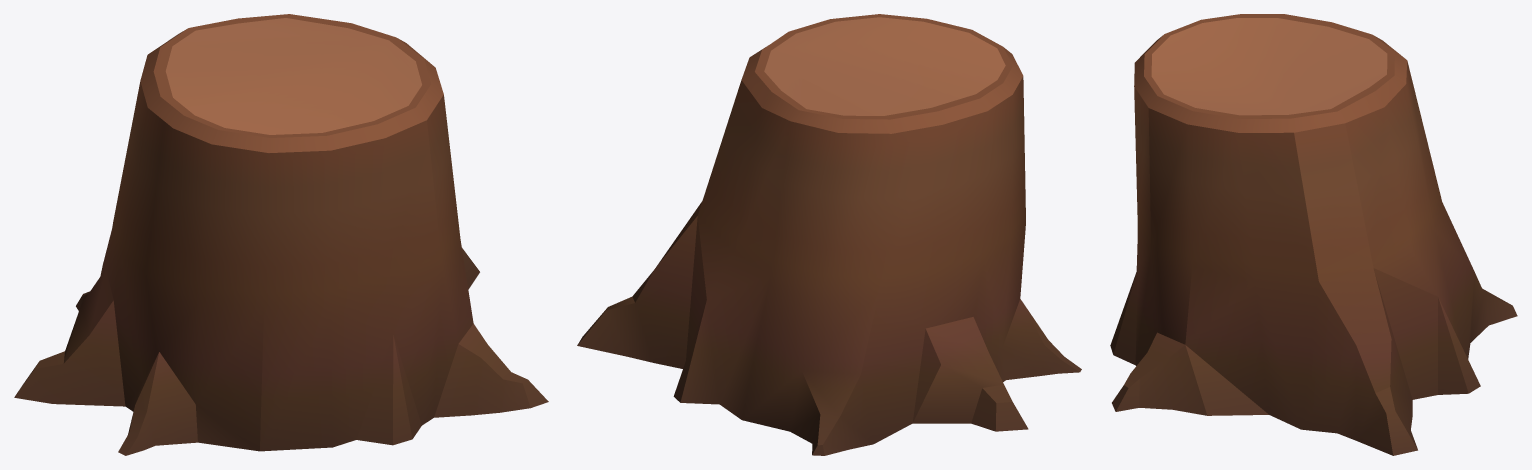
Rendered from Log_1.fbx.
3 views of the same model, side by side, from view 1: azimuth 30°, elevation 25°; view 2: azimuth 150°, elevation 25°; view 3: azimuth 270°, elevation 25° (orthographic). The views are drawn at different scales.
Parts seen in each view (by area): view 1: Log_1; view 2: Log_1; view 3: Log_1.
Part boxes in pixels (x1,y1,x2,y2): Log_1: (14, 14, 548, 455); Log_1: (577, 14, 1081, 455); Log_1: (1110, 14, 1517, 455).
Bounding box in the file's own units: 107 × 69.9 × 88.75.
